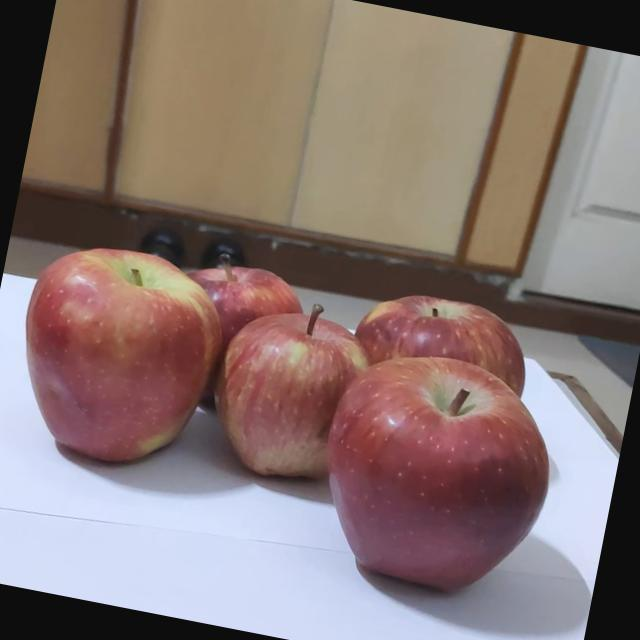apple: (270, 340, 546, 627), (354, 259, 581, 480), (16, 233, 236, 458), (194, 286, 390, 482), (190, 223, 355, 384)
